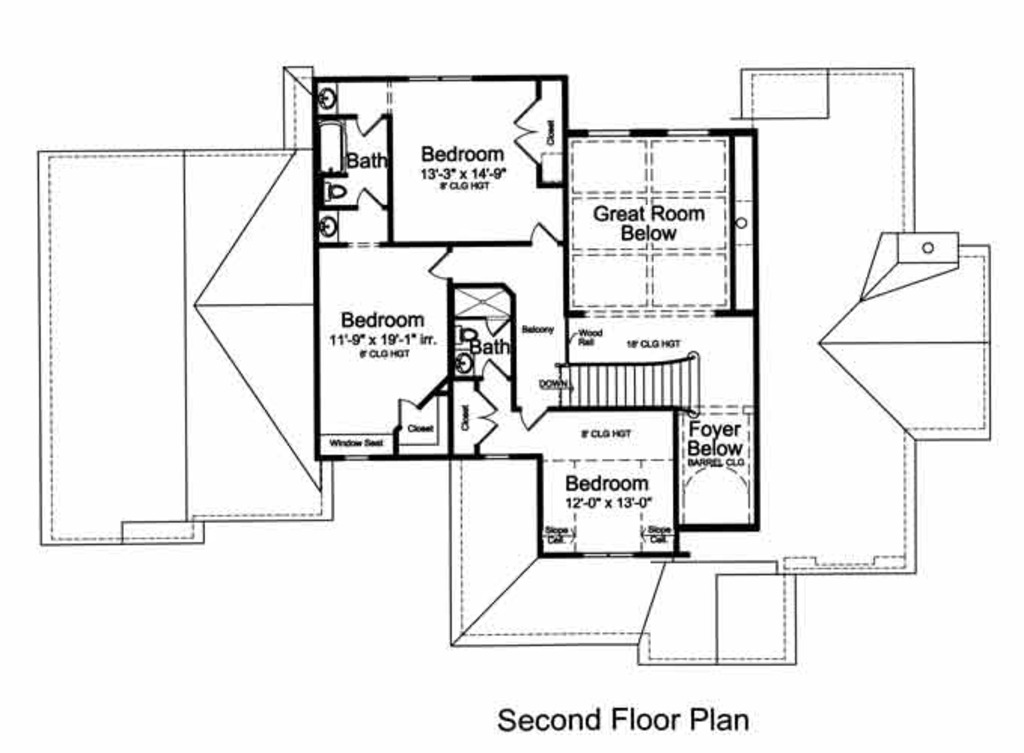door: (513, 99, 541, 168), (469, 386, 500, 443), (424, 247, 454, 286), (354, 184, 387, 219), (516, 221, 558, 248), (352, 108, 384, 139), (389, 396, 421, 423), (515, 408, 551, 431), (479, 354, 510, 379)
large_sink: (316, 174, 348, 204)
small_sink: (317, 203, 340, 245)
stairs: (560, 348, 704, 422)
tub: (318, 119, 348, 182)
windows: (567, 544, 636, 564), (578, 127, 632, 143), (660, 128, 714, 141)
